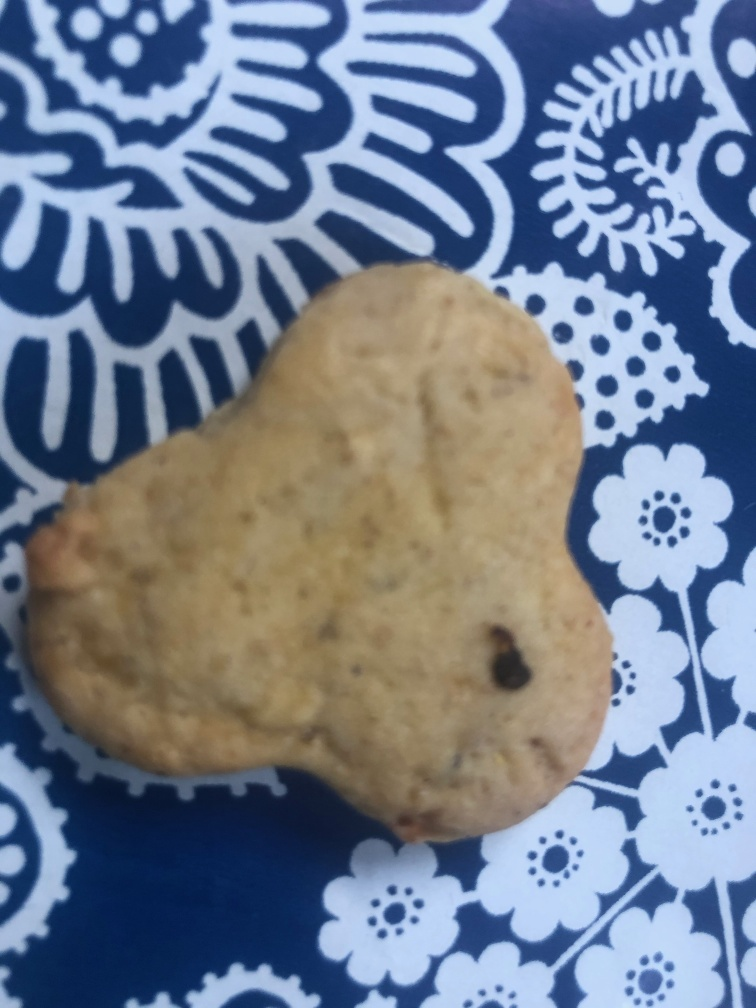flake: (24, 245, 616, 845)
